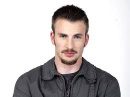male: (47, 4, 92, 71)
